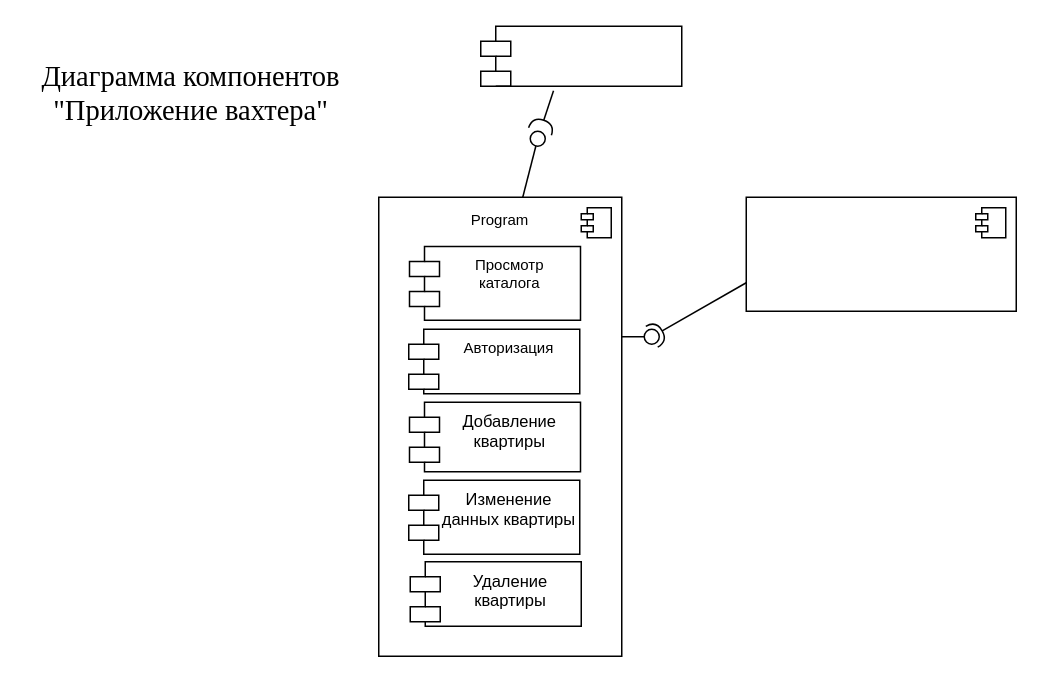
Some shapes in this 1043 by 683 pixel diagram are drawn without their labels. The centre of each missing label's shape, as x and y in pixels:
Database: [880,253]
PC: [580,55]
